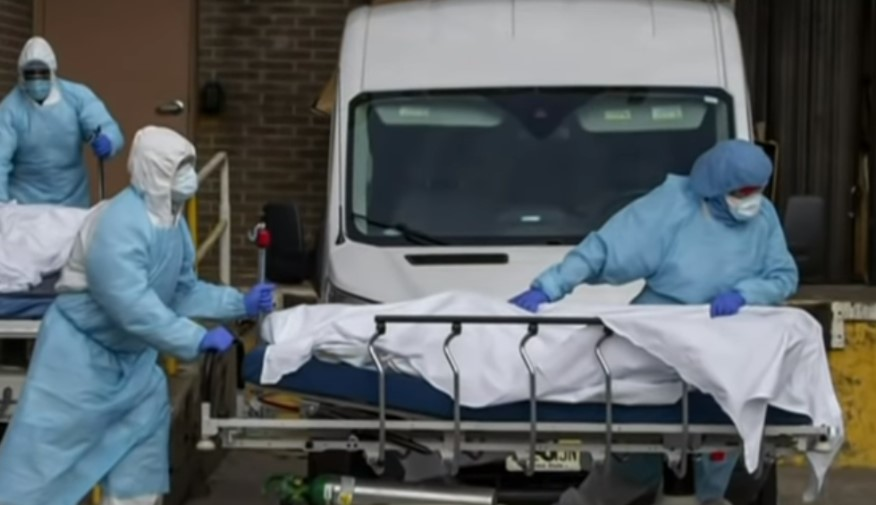face_with_mask: (686, 135, 781, 241), (124, 124, 207, 217), (9, 31, 58, 103)
